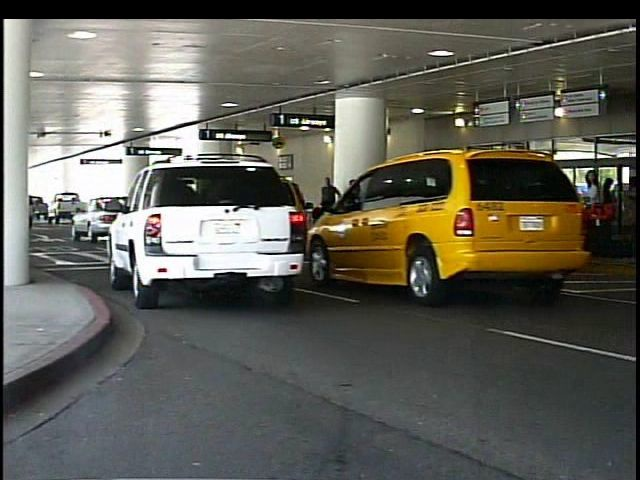person: (504, 168, 533, 261), (319, 172, 346, 245), (600, 176, 620, 245)
